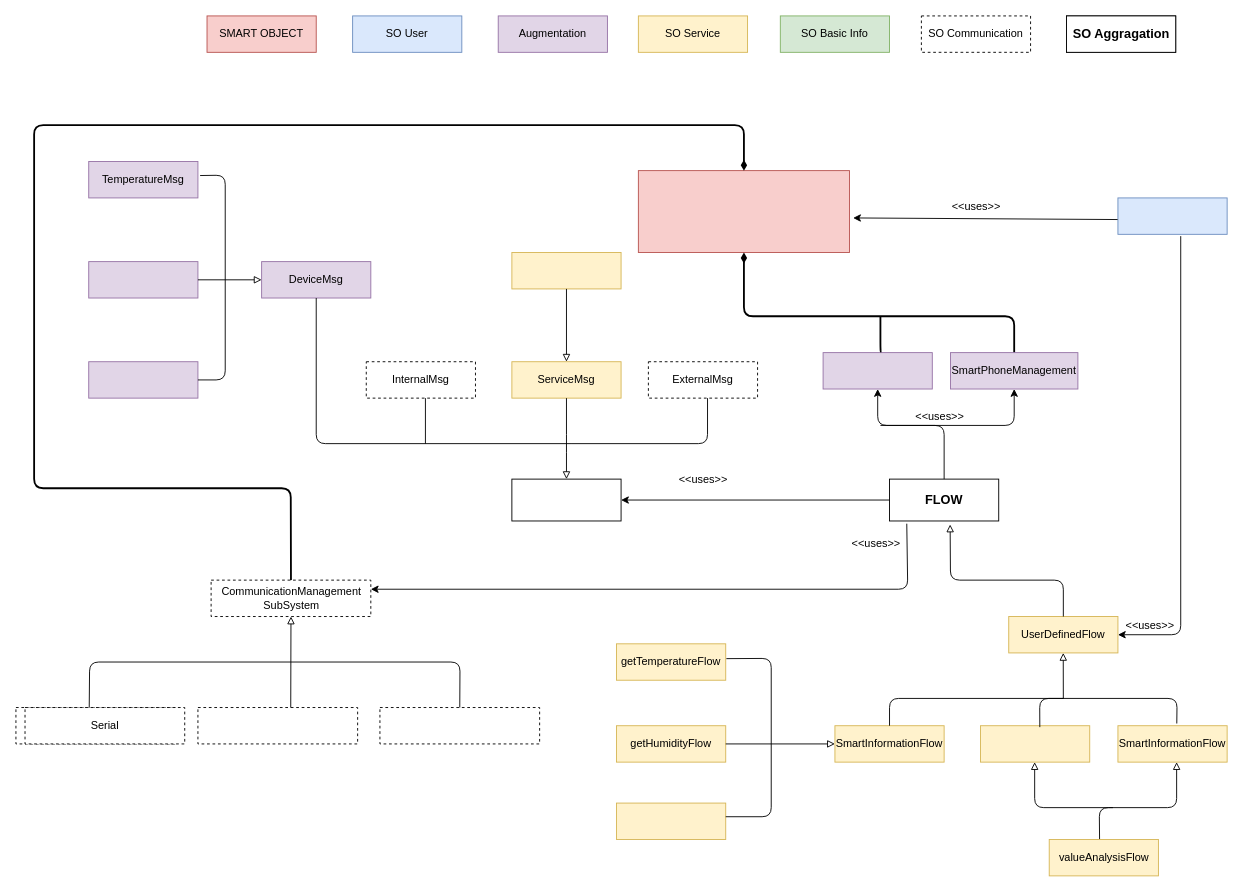
The diagram is 1243 pixels wide and 892 high, and some of its shapes have lost their labels. The centre of each missing label's shape, as x and y in pixels:
"ArduinoManagement" belongs at pixel 877 370.
"countPeopleFlow" belongs at pixel 671 820.
"countPeopleMsg" belongs at pixel 143 379.
"HTTP" belongs at pixel 277 725.
"HumidityMsg" belongs at pixel 143 279.
"MQTT" belongs at pixel 459 725.
"MSG" belongs at pixel 566 499.
"NodeRed User" belongs at pixel 1172 215.
"SmartAlertFlow" belongs at pixel 1035 743.
"SmartCafeteria <<NodeRedFlow>>" belongs at pixel 743 211.
"valueAnalysisMsg" belongs at pixel 566 270.
